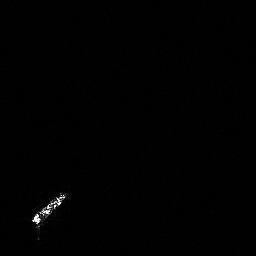ship: (25, 190, 77, 230)
